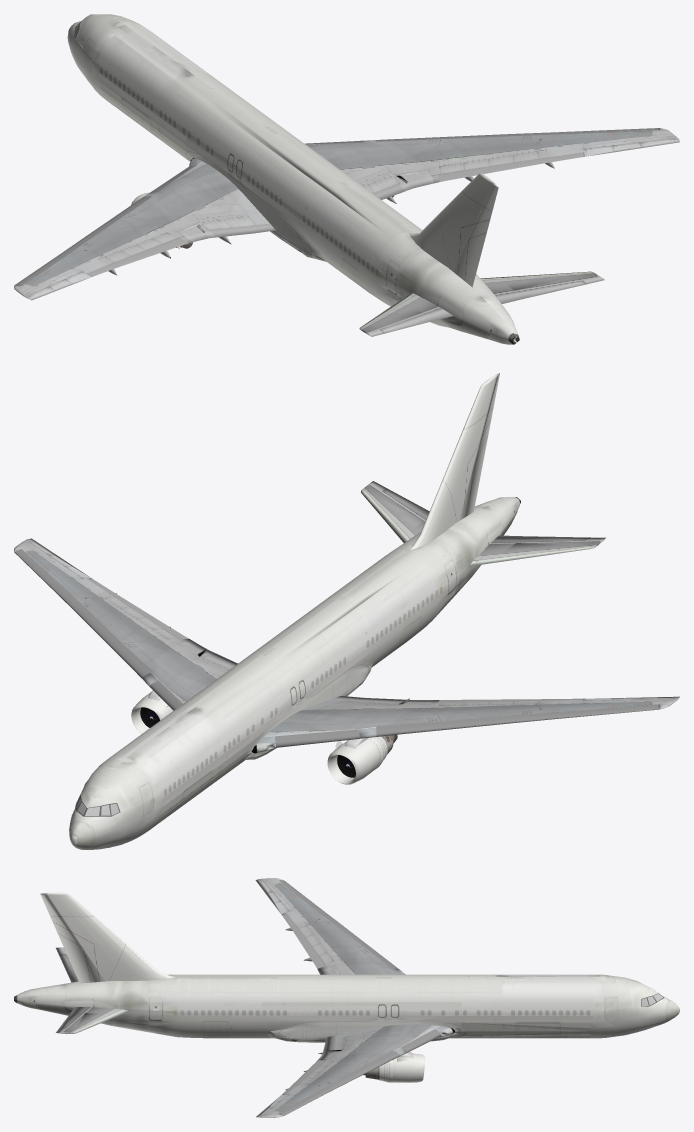
3 renders of one model, top to bottom at view 1: azimuth 30°, elevation 25°; view 2: azimuth 150°, elevation 25°; view 3: azimuth 270°, elevation 25°, orthographic. The views are drawn at different scales.
Visible parts, largest first — view 1: rootNode; view 2: rootNode; view 3: rootNode.
Part boxes in pixels (left/top/right/bottom): rootNode: left=14, top=14, right=679, bottom=344; rootNode: left=14, top=373, right=679, bottom=849; rootNode: left=14, top=878, right=679, bottom=1117.
Bounding box in the file's own units: 51.77 × 15.47 × 61.06.
Materials: 9 (4 with a texture image).
